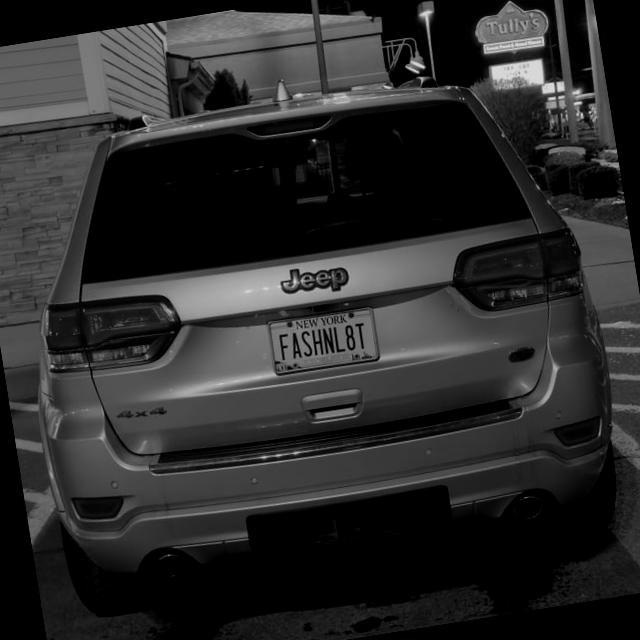LicensePlate: (265, 305, 380, 376)
